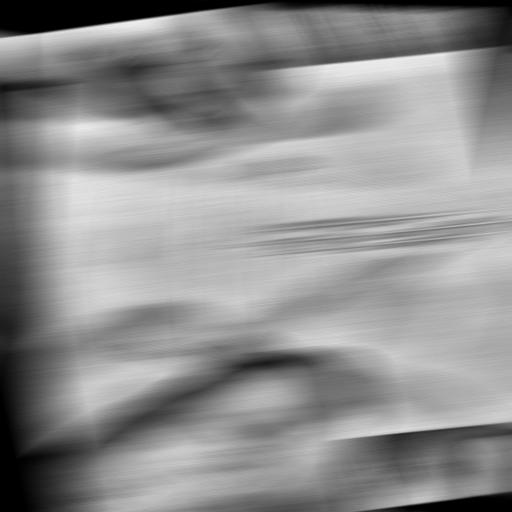boat: (75, 97, 512, 394)
bottom_right: (22, 82, 60, 92)
